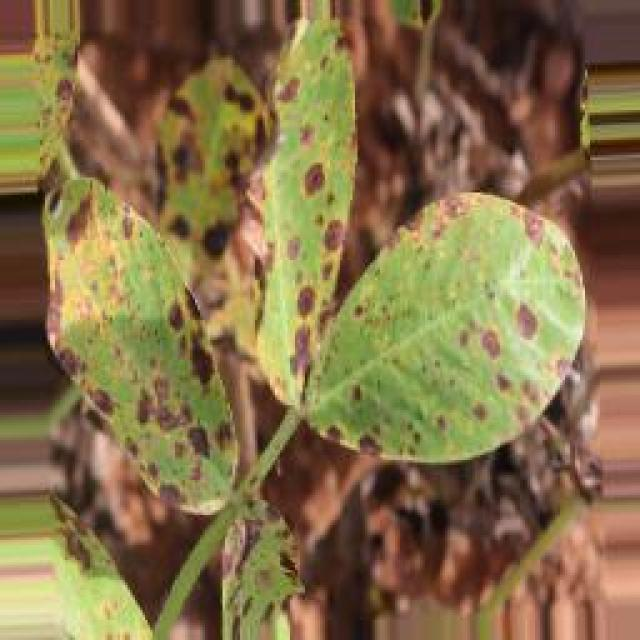Yellowish: (39, 26, 574, 542)
